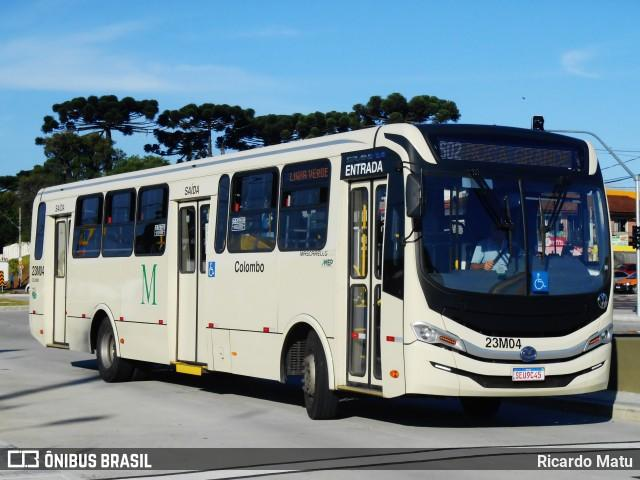ROCA GRANDE: (462, 140, 576, 172)
